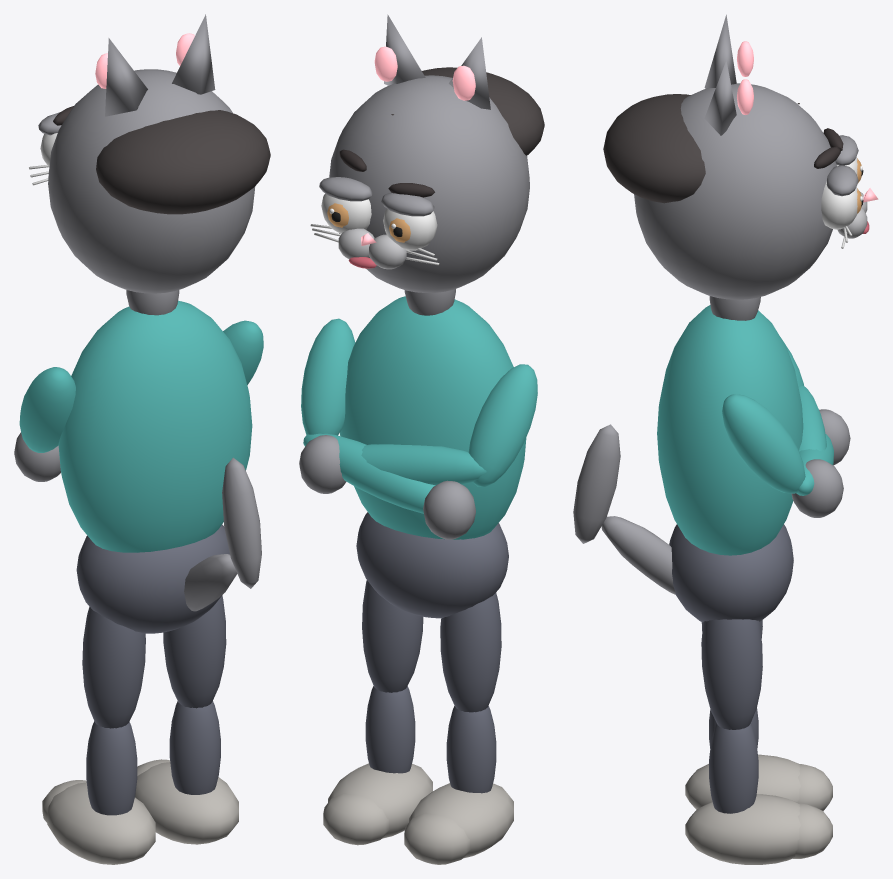
File: P5_Cat.fbx
3 renders of one model, left to right at view 1: azimuth 30°, elevation 25°; view 2: azimuth 150°, elevation 25°; view 3: azimuth 270°, elevation 25°, orthographic. The views are drawn at different scales.
Visible parts, largest first — view 1: Body; view 2: Body; view 3: Body.
Boxes of the visible parts, <box> form: Body: <box>14,14,270,864</box>; Body: <box>299,14,544,864</box>; Body: <box>573,14,878,864</box>.
Bounding box in the file's own units: 57.46 × 199 × 68.63.
